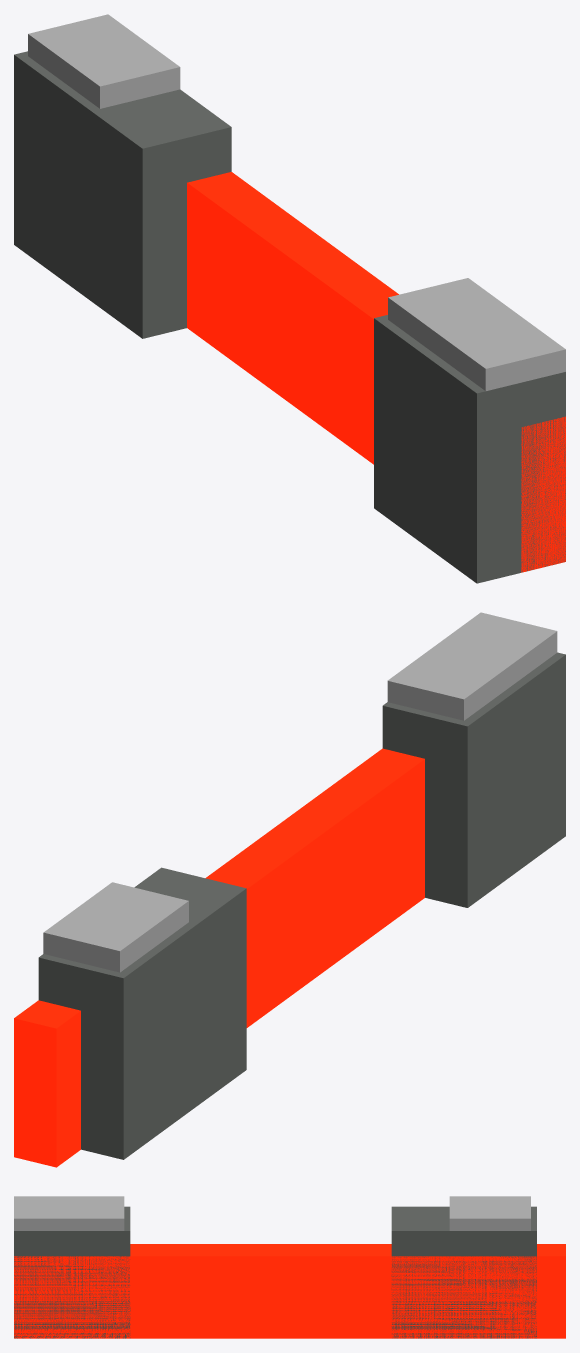
Rendered from newsha-1-f4.glb.
3 renders of one model, top to bottom at view 1: azimuth 30°, elevation 25°; view 2: azimuth 150°, elevation 25°; view 3: azimuth 270°, elevation 25°, orthographic. The views are drawn at different scales.
Visible parts, largest first — view 1: newsha-1-f4; view 2: newsha-1-f4; view 3: newsha-1-f4.
Part boxes in pixels (x1=…): newsha-1-f4: x1=14, y1=14, x2=565, y2=583; newsha-1-f4: x1=14, y1=612, x2=565, y2=1167; newsha-1-f4: x1=14, y1=1196, x2=565, y2=1338.
Bounding box in the file's own units: 0.1667 × 0.38 × 1.58.
